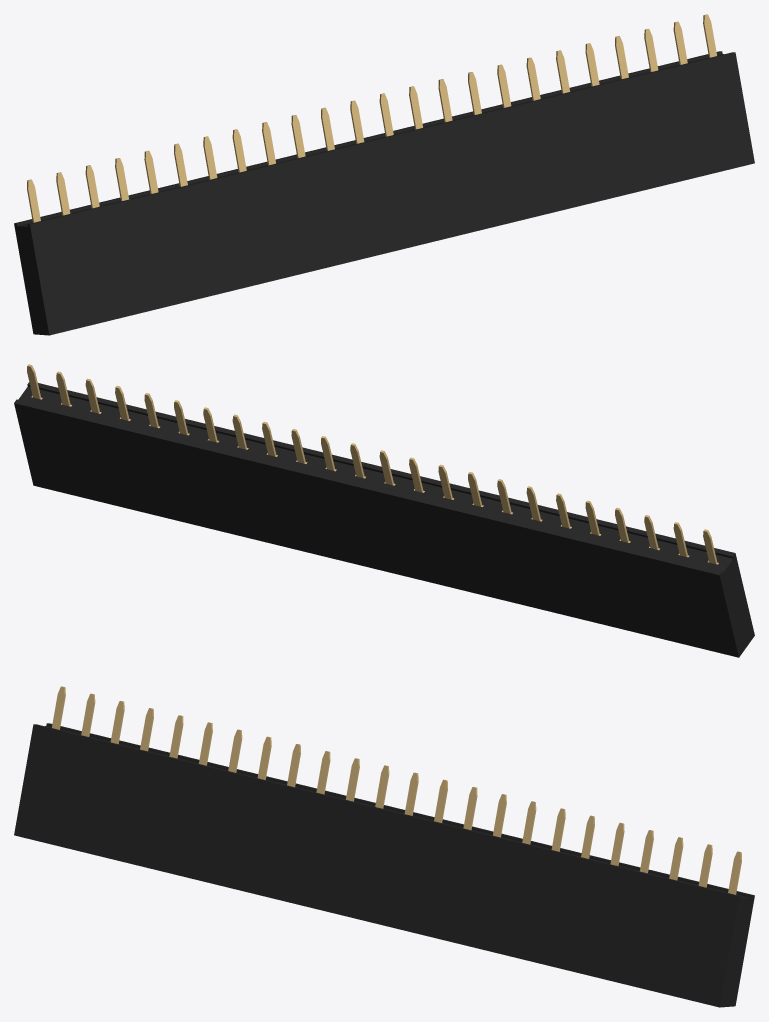
The model's file is EBoxNewAsm_stp_1_UTeensyBreakout_1_stp_1_PinSocket_1x24_P2_54mm_Vertical_stp_2_solid1.obj.
3 renders of one model, top to bottom at view 1: azimuth 30°, elevation 25°; view 2: azimuth 150°, elevation 25°; view 3: azimuth 330°, elevation 25°, orthographic.
Parts seen in each view (by area): view 1: mesh4918, mesh4915, mesh4912, mesh4917, mesh4913, mesh4910; view 2: mesh4914, mesh4910, mesh4913, mesh4917, mesh4915, mesh4911; view 3: mesh4918, mesh4916, mesh4912, mesh4917, mesh4913, mesh4910.
Boxes of the visible parts, box(x1,y1,x2,y2) form: mesh4918: box(30, 52, 754, 335); mesh4915: box(14, 223, 49, 335); mesh4912: box(16, 51, 722, 225); mesh4917: box(28, 52, 734, 224); mesh4913: box(15, 51, 721, 223); mesh4910: box(17, 54, 723, 226); mesh4914: box(14, 403, 738, 657); mesh4910: box(18, 386, 732, 572); mesh4913: box(14, 399, 721, 575); mesh4917: box(27, 382, 735, 556); mesh4915: box(719, 553, 754, 657); mesh4911: box(27, 384, 733, 558); mesh4918: box(14, 724, 738, 1007); mesh4916: box(719, 895, 754, 1007); mesh4912: box(46, 723, 752, 897); mesh4917: box(34, 724, 740, 896); mesh4913: box(47, 723, 753, 895); mesh4910: box(45, 726, 751, 898).
Size of the model in its own units: 0.061 by 0.0114 by 0.00529.
